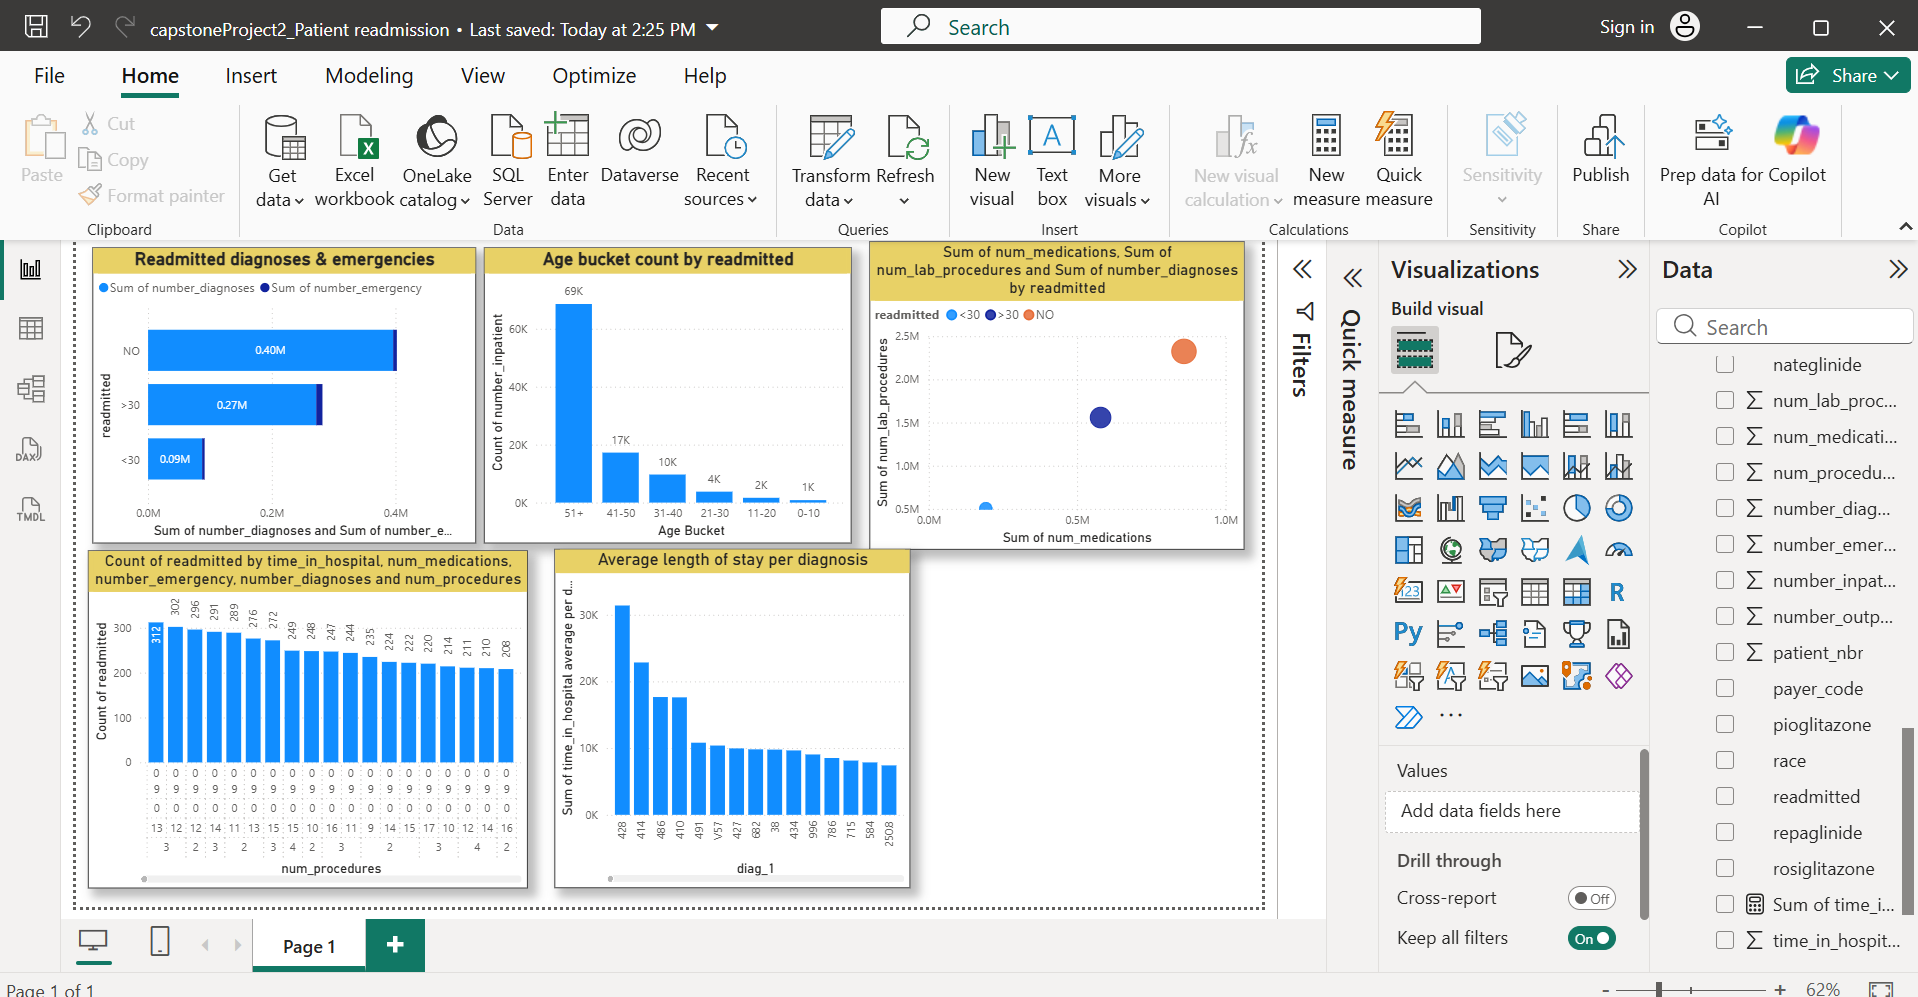

The dashboard page shown, as its layout file describes it:
{"tool":"powerbi","page":{"name":"Page 1","canvas":[1280,720],"ordinal":0},"visuals":[{"type":"barChart","title":"Readmitted diagnoses & emergencies ","fields":{"Y":["Sum(diabetic_data.number_diagnoses)","Sum(diabetic_data.number_emergency)"],"Category":["diabetic_data.readmitted"]},"box":[17,7.6,413.9,319.4],"z":0},{"type":"columnChart","title":"Age bucket count by readmitted ","fields":{"Category":["diabetic_data.Age Bucket"],"Y":["CountNonNull(diabetic_data.number_inpatient)"]},"box":[440.3,7.6,396.9,319.4],"z":1},{"type":"clusteredColumnChart","fields":{"Category":["diabetic_data.time_in_hospital","diabetic_data.num_medications","diabetic_data.number_emergency","diabetic_data.number_diagnoses","diabetic_data.num_procedures"],"Y":["CountNonNull(diabetic_data.readmitted)"]},"box":[13.2,334.5,474.3,364.7],"z":2},{"type":"scatterChart","fields":{"X":["Sum(diabetic_data.num_medications)"],"Y":["Sum(diabetic_data.num_lab_procedures)"],"Series":["diabetic_data.readmitted"],"Size":["Sum(diabetic_data.number_diagnoses)"]},"box":[856.1,1.9,404.4,332.6],"z":3},{"type":"clusteredColumnChart","title":"Average length of stay per diagnosis","fields":{"Category":["diabetic_data.diag_1"],"Y":["diabetic_data.Sum of time_in_hospital average per diag_1"]},"box":[516.5,333.6,383.8,365.9],"z":4}]}

Visuals, with their boxes on the page's 1280x720 design canvas (x1, y1, x2, y2). These are canvas units, not pixel positions in the 1918x997 screenshot, which may show the page scaled, cropped or inside an application window:
"Readmitted diagnoses & emergencies " barChart: locate(17, 8, 431, 327)
"Age bucket count by readmitted " columnChart: locate(440, 8, 837, 327)
clusteredColumnChart - diabetic_data.time_in_hospital x diabetic_data.num_medications: locate(13, 334, 488, 699)
scatterChart - Sum(diabetic_data.num_medications) x Sum(diabetic_data.num_lab_procedures): locate(856, 2, 1260, 334)
"Average length of stay per diagnosis" clusteredColumnChart: locate(516, 334, 900, 700)
